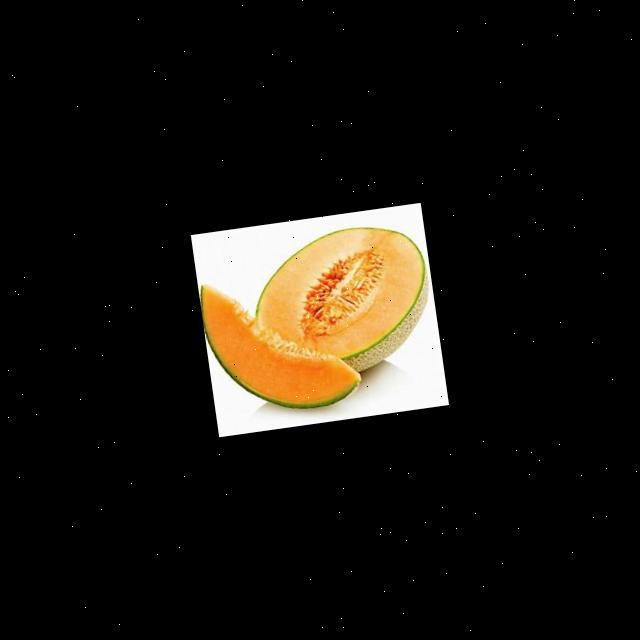Hami Melon: (246, 220, 439, 386), (198, 264, 364, 420)
